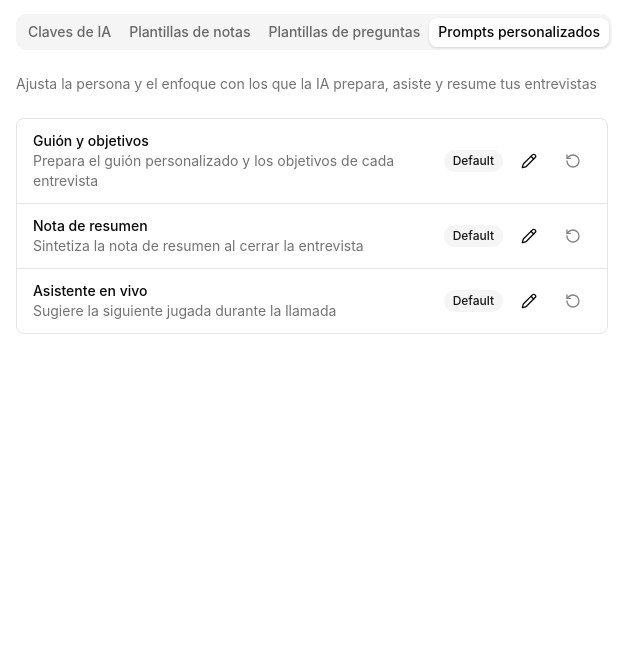
Test case: CustomPromptItem › accordion listing › collapses the item directly on pencil click when there are no unsaved changes
Click the button named "Editar prompt" in the row of "Guión y objetivos" at {"x": 529, "y": 161}, box [511,143,547,179]
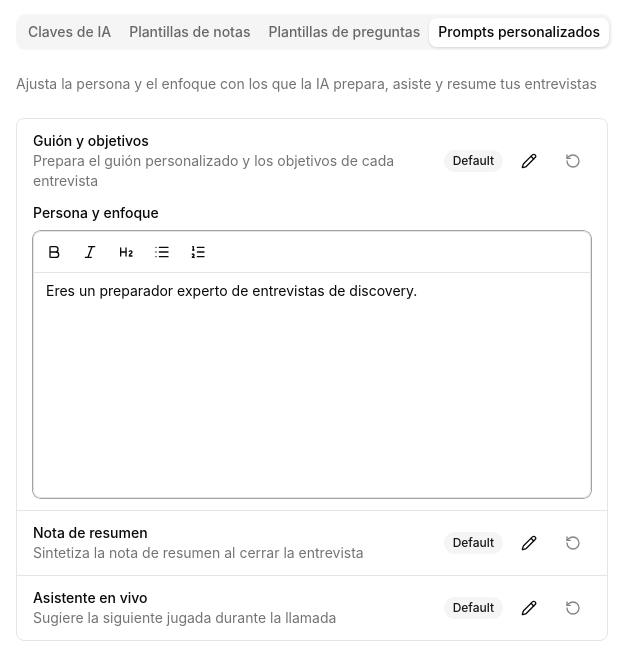
Click the button named "Editar prompt" in the row of "Guión y objetivos" at {"x": 529, "y": 161}, box [511,143,547,179]
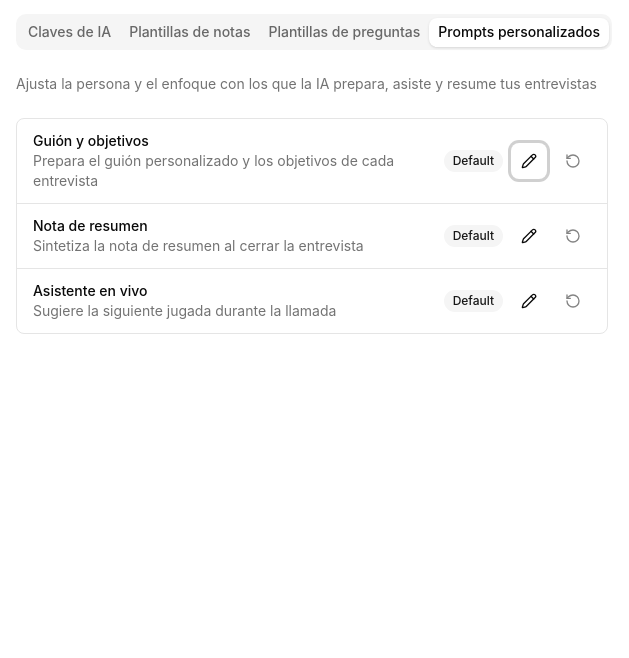
Result: the element with test id "custom-prompt-panel-script" is gone
